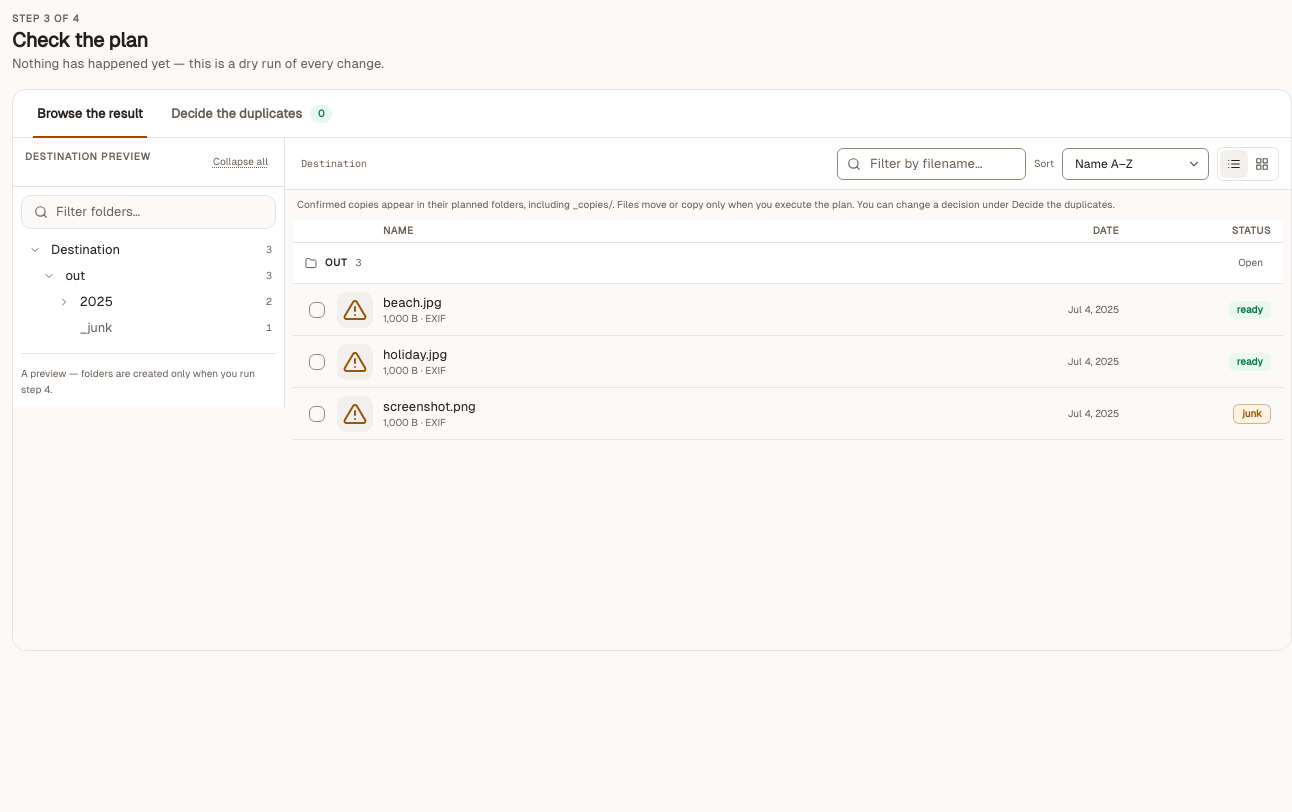
Test: browse › distinguishes a search with no matches and clears only that search
Expected: the checkbox named "holiday.jpg" is shown, [309,354,325,370]
Step 1. Click the button "_junk" → (171, 328), box [80,315,262,341]
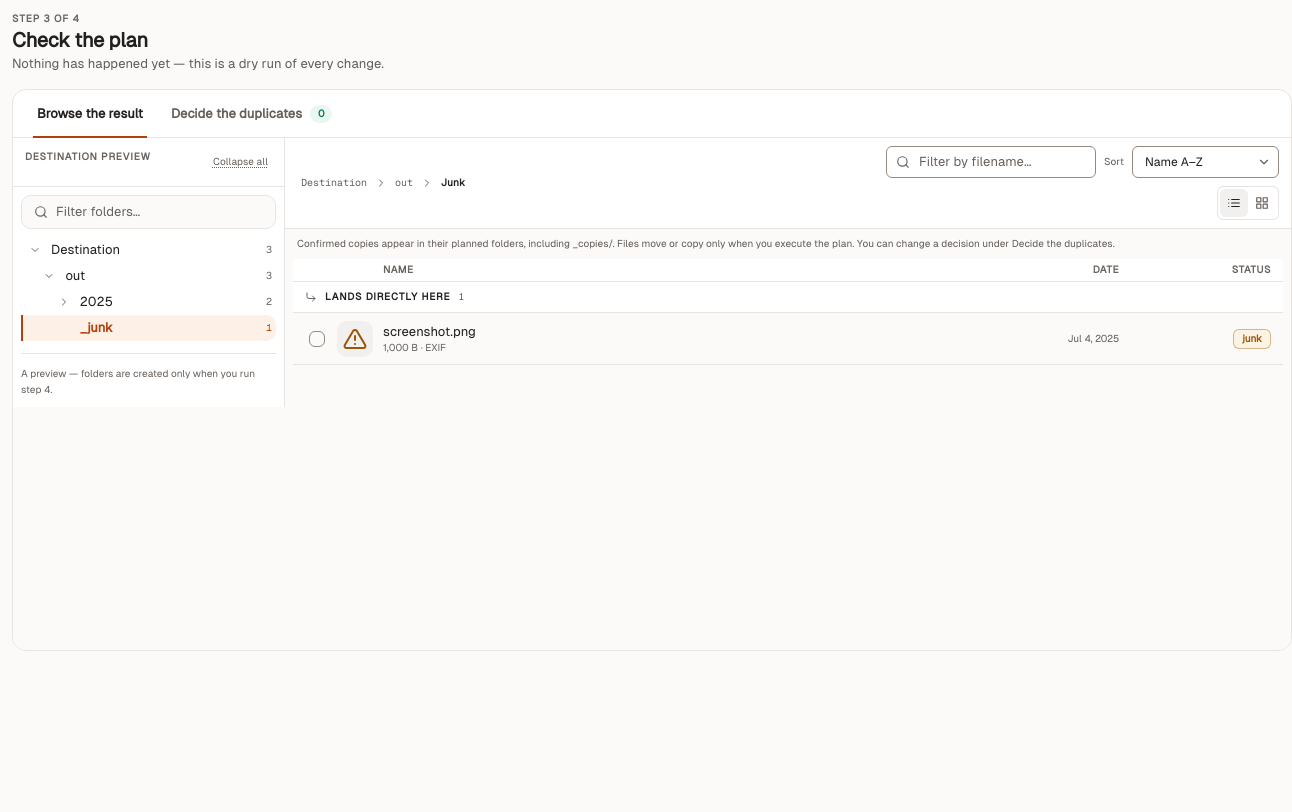
Step 2. Type "not-present" into the search field → (991, 162), box [886,146,1096,178]
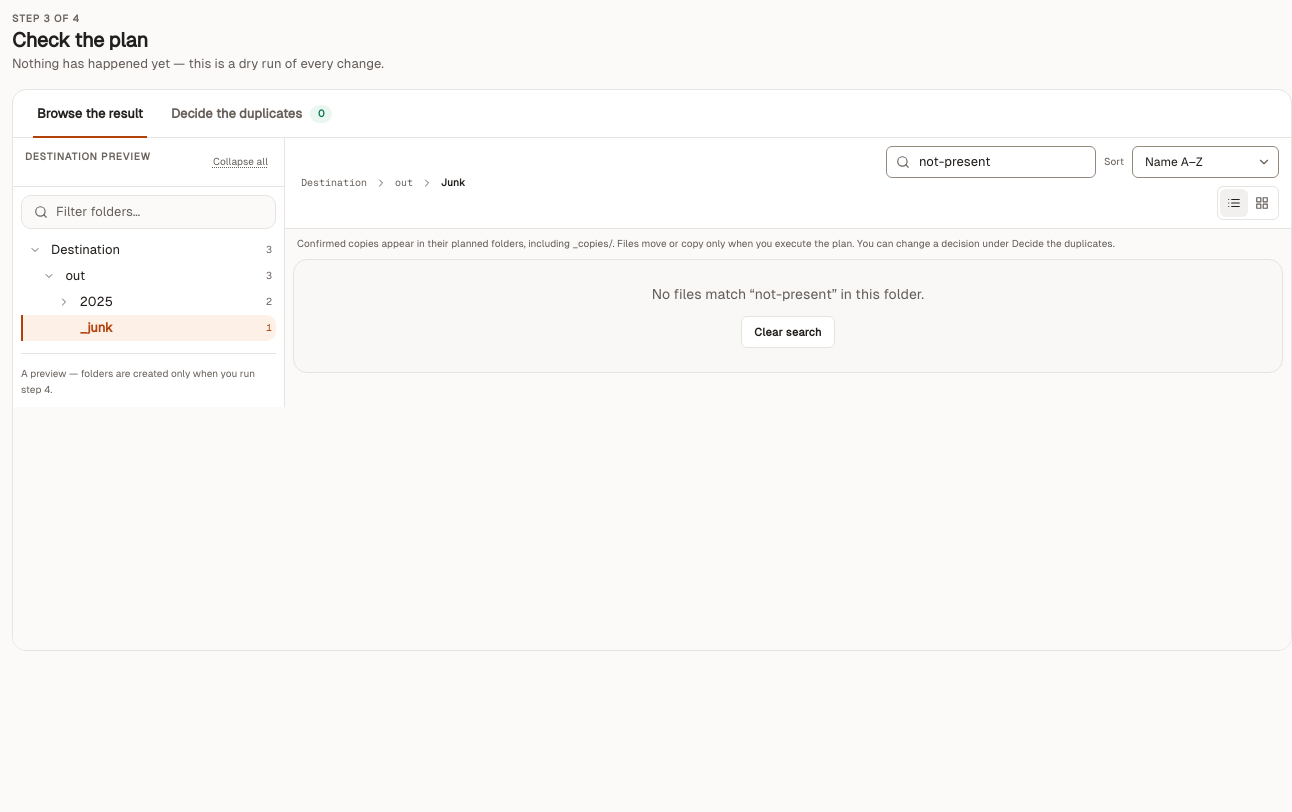
Step 3. Click the button "Clear search" → (788, 332), box [741,316,835,348]
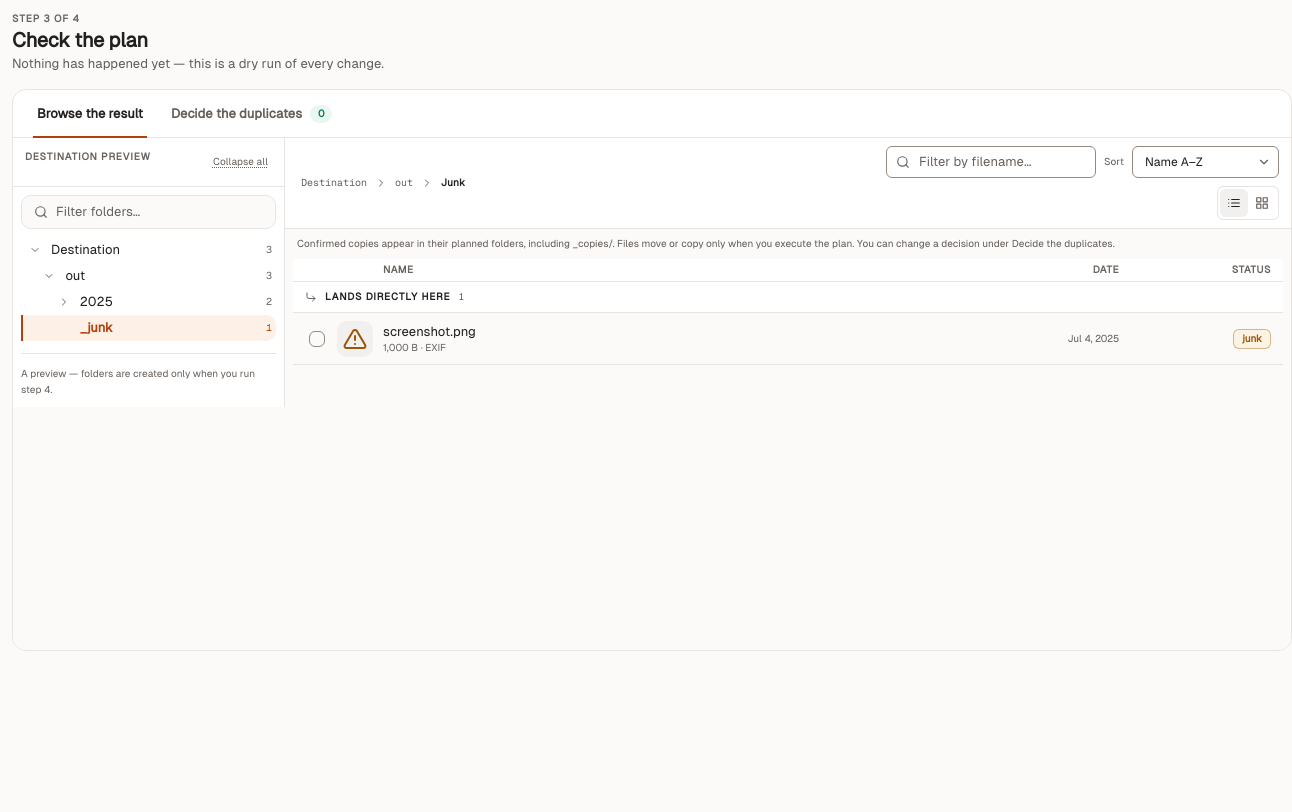
Expected: the button "holiday.jpg" is not shown
Expected: the checkbox named "screenshot.png" is shown, [309,330,325,346]
